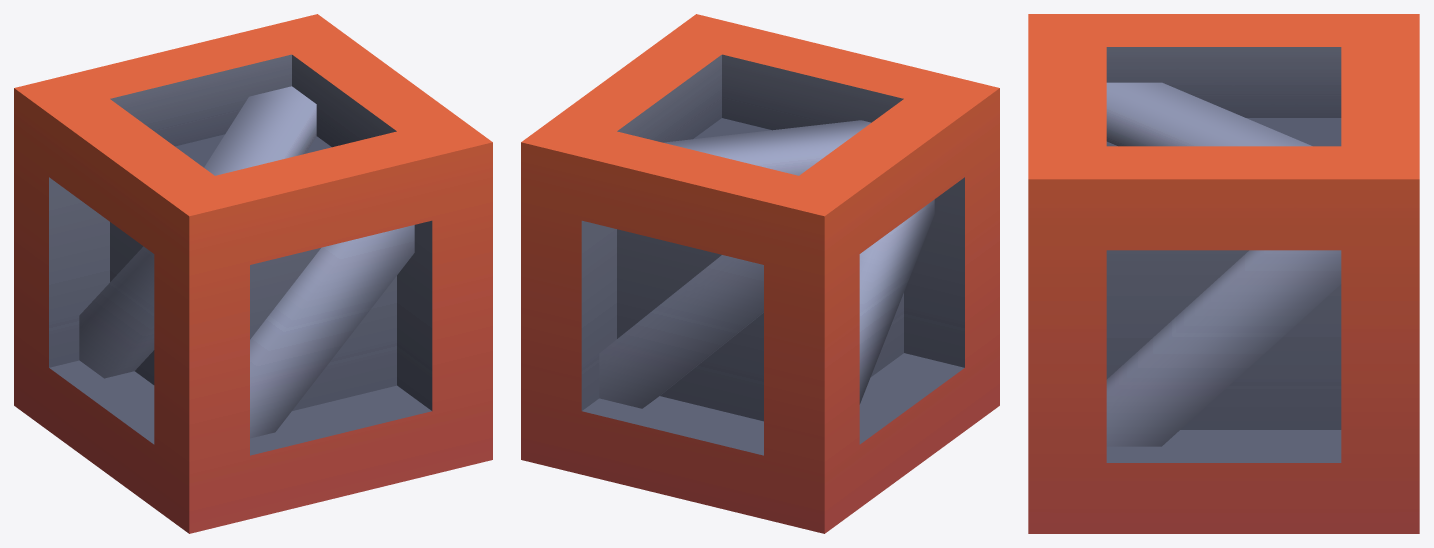
The model's file is crate-color.glb.
The picture shows the model from 3 angles, left to right: view 1: azimuth 30°, elevation 25°; view 2: azimuth 150°, elevation 25°; view 3: azimuth 270°, elevation 25°; orthographic projection. The views are drawn at different scales.
Visible parts, largest first — view 1: crate-color; view 2: crate-color; view 3: crate-color.
Boxes of the visible parts, box(x1,y1,x2,y2) form: crate-color: box(14, 14, 492, 533); crate-color: box(521, 14, 999, 533); crate-color: box(1028, 14, 1419, 533).
Bounding box in the file's own units: 0.5 × 0.5 × 0.5.
1 material, 1 textured.
